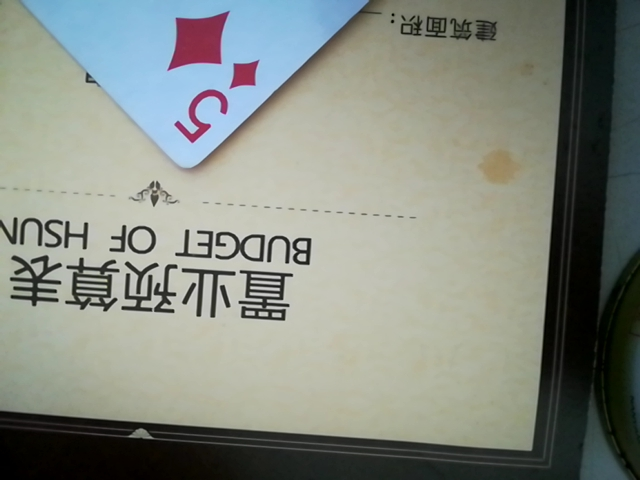fk 5: (0, 0, 584, 173)
